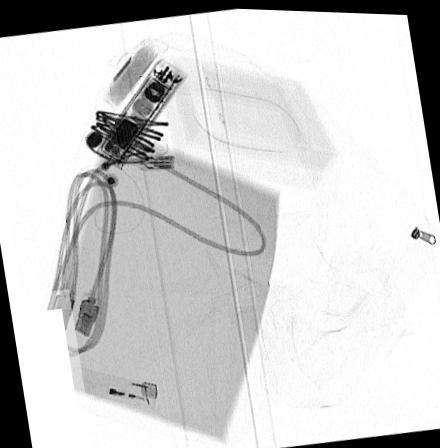Lighter: (69, 364, 158, 408)
